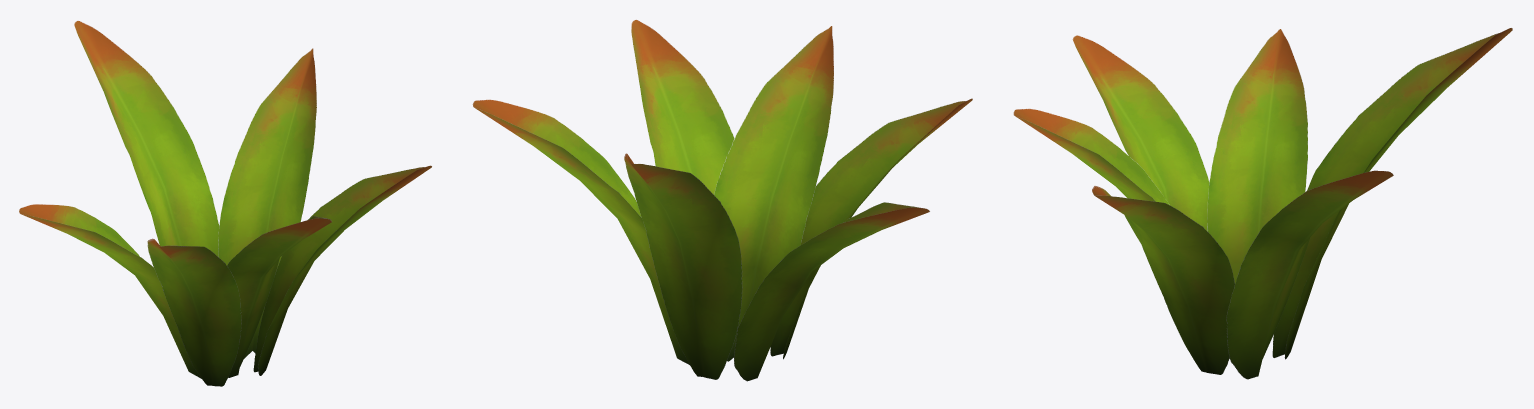
File: Plant_1.glb
3 renders of one model, left to right at view 1: azimuth 30°, elevation 25°; view 2: azimuth 150°, elevation 25°; view 3: azimuth 270°, elevation 25°, orthographic. The views are drawn at different scales.
Visible parts, largest first — view 1: Plant_1; view 2: Plant_1; view 3: Plant_1.
Part boxes in pixels (box(x1,y1,x2,y2)): Plant_1: box(19, 20, 431, 386); Plant_1: box(472, 19, 972, 381); Plant_1: box(1013, 28, 1512, 379).
Size of the model in its own units: 1.27 by 1.01 by 1.39.
Materials: 1 (1 with a texture image).
